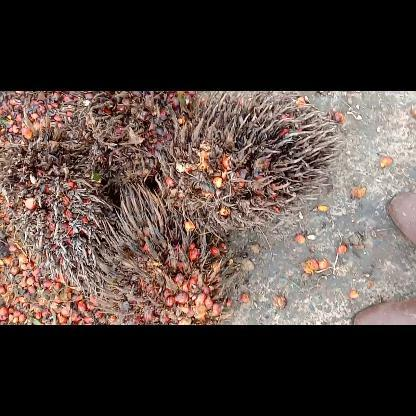Terlalu masak: (149, 90, 347, 246), (0, 123, 136, 308), (87, 176, 243, 324), (59, 91, 201, 190)
